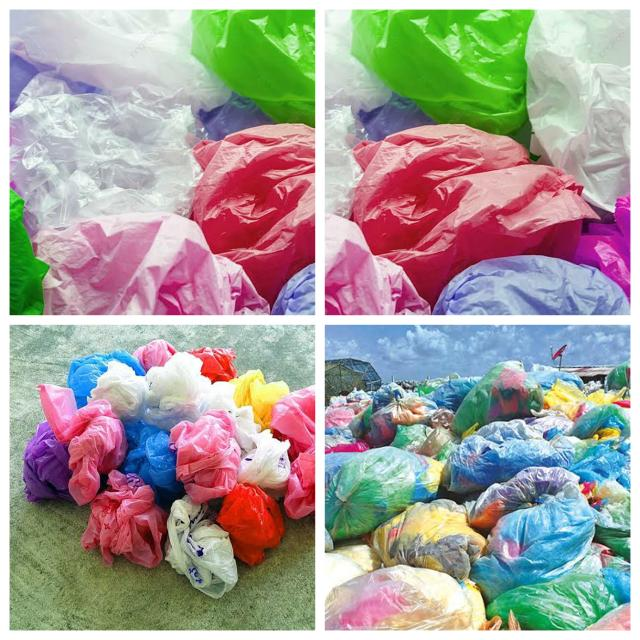Single-layer Plastic: (352, 125, 598, 305), (10, 88, 200, 235), (34, 212, 269, 315), (351, 10, 534, 135), (10, 10, 230, 111), (192, 124, 315, 304), (525, 10, 630, 211), (470, 484, 595, 602), (191, 10, 315, 126), (432, 255, 630, 315), (325, 446, 444, 541), (39, 385, 128, 505), (325, 215, 430, 315), (325, 565, 485, 630), (444, 419, 575, 494), (371, 499, 486, 580), (81, 470, 168, 568), (165, 495, 238, 599), (488, 574, 618, 630), (452, 361, 544, 434), (170, 410, 241, 503), (270, 385, 315, 518), (574, 195, 630, 299), (216, 482, 285, 565), (121, 421, 184, 508), (144, 352, 211, 431), (235, 406, 290, 498), (68, 350, 145, 408), (22, 421, 72, 502), (88, 360, 149, 421), (230, 370, 290, 430), (568, 404, 629, 439), (132, 339, 176, 371), (199, 381, 238, 416)
